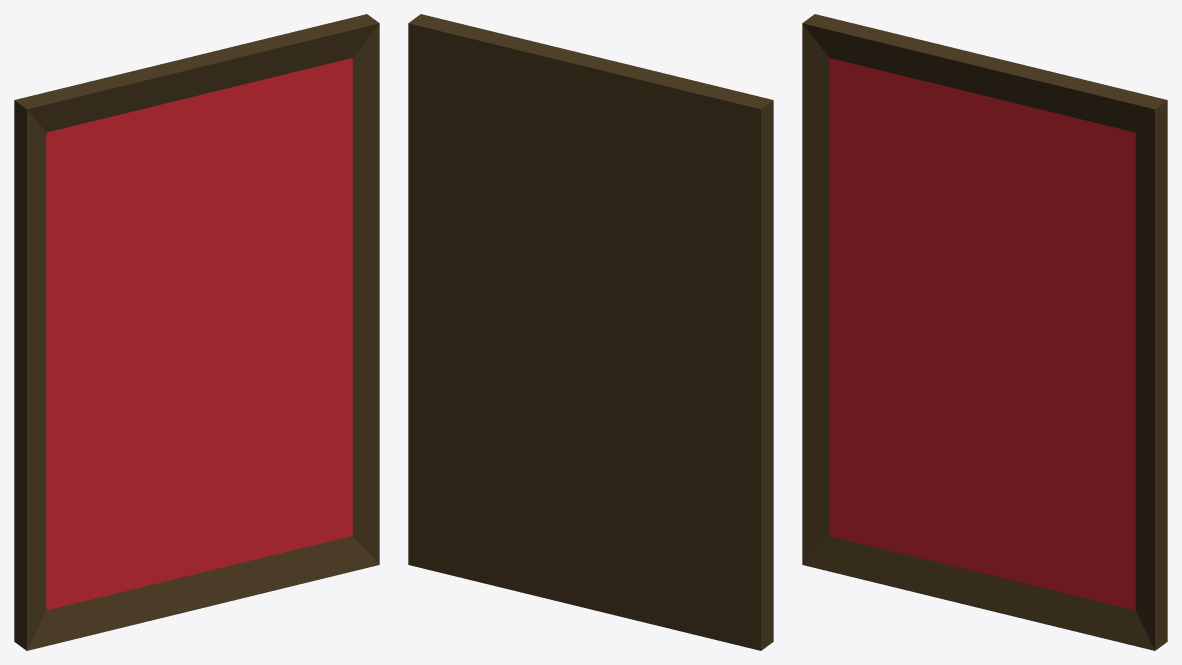
File: Picture Frame (Large).FBX
3 views of the same model, side by side, from view 1: azimuth 30°, elevation 25°; view 2: azimuth 150°, elevation 25°; view 3: azimuth 330°, elevation 25° (orthographic).
Visible parts, largest first — view 1: Picture Frame; view 2: Picture Frame; view 3: Picture Frame.
Part boxes in pixels (x1,y1,x2,y2): Picture Frame: [14, 14, 379, 650]; Picture Frame: [408, 14, 773, 650]; Picture Frame: [802, 14, 1167, 650].
Size of the model in its own units: 3.01 by 4.41 by 0.188.
